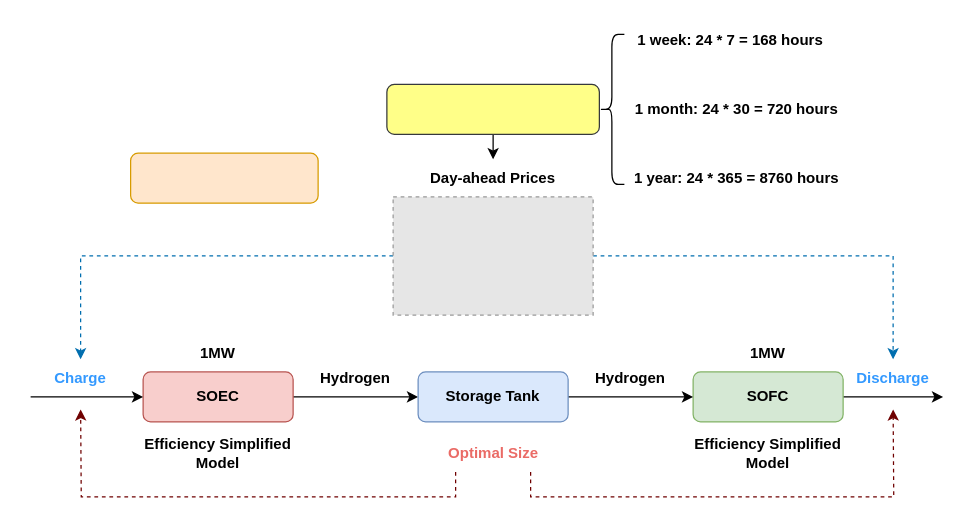
This 975x529 diagram has some shape labels left out. Grey dashed boxes stand in for pictures. Each missing label, with the centre of its shape:
Reduce Investment Cost: pixel 223 177
Timeframe: pixel 492 108
